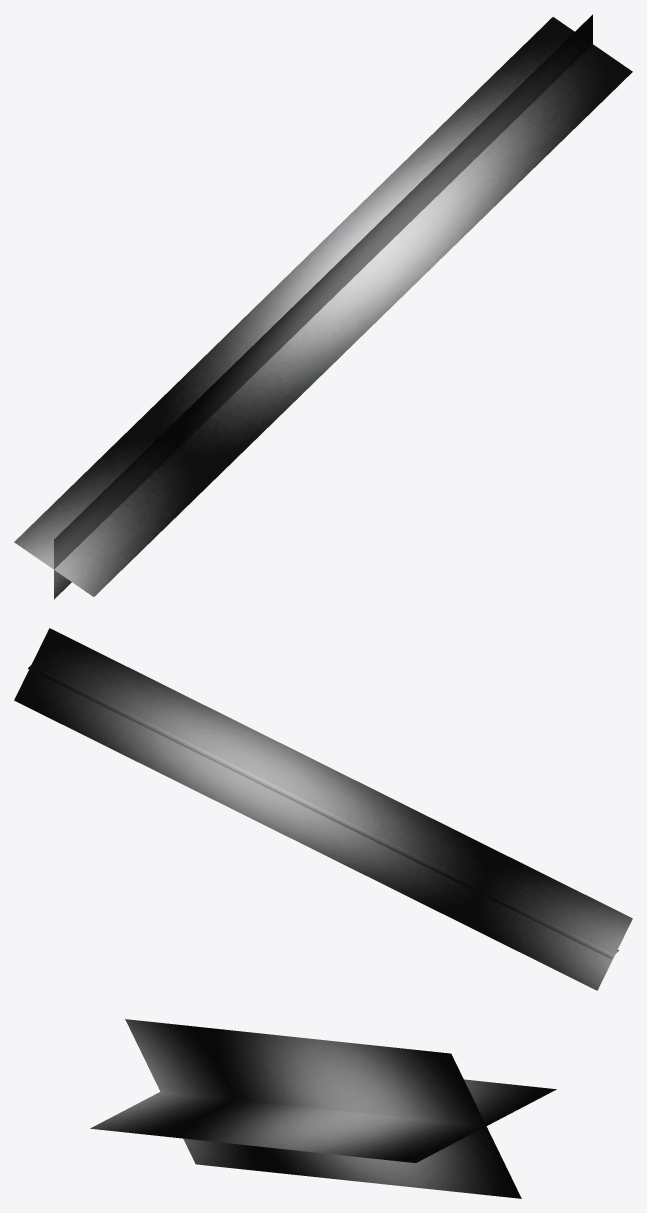
The model's file is vfx_kurp_1024.dae.
3 views of the same model, one above another, from view 1: azimuth 30°, elevation 25°; view 2: azimuth 150°, elevation 25°; view 3: azimuth 270°, elevation 25° (orthographic). The views are drawn at different scales.
Visible parts, largest first — view 1: vfx_kurp_1024; view 2: vfx_kurp_1024; view 3: vfx_kurp_1024.
Part boxes in pixels (left/top/right/bottom): vfx_kurp_1024: left=14, top=14, right=632, bottom=599; vfx_kurp_1024: left=14, top=628, right=632, bottom=990; vfx_kurp_1024: left=90, top=1019, right=556, bottom=1198.
Bounding box in the file's own units: 1.35 × 0.5159 × 0.7102.
1 material, 1 textured.
